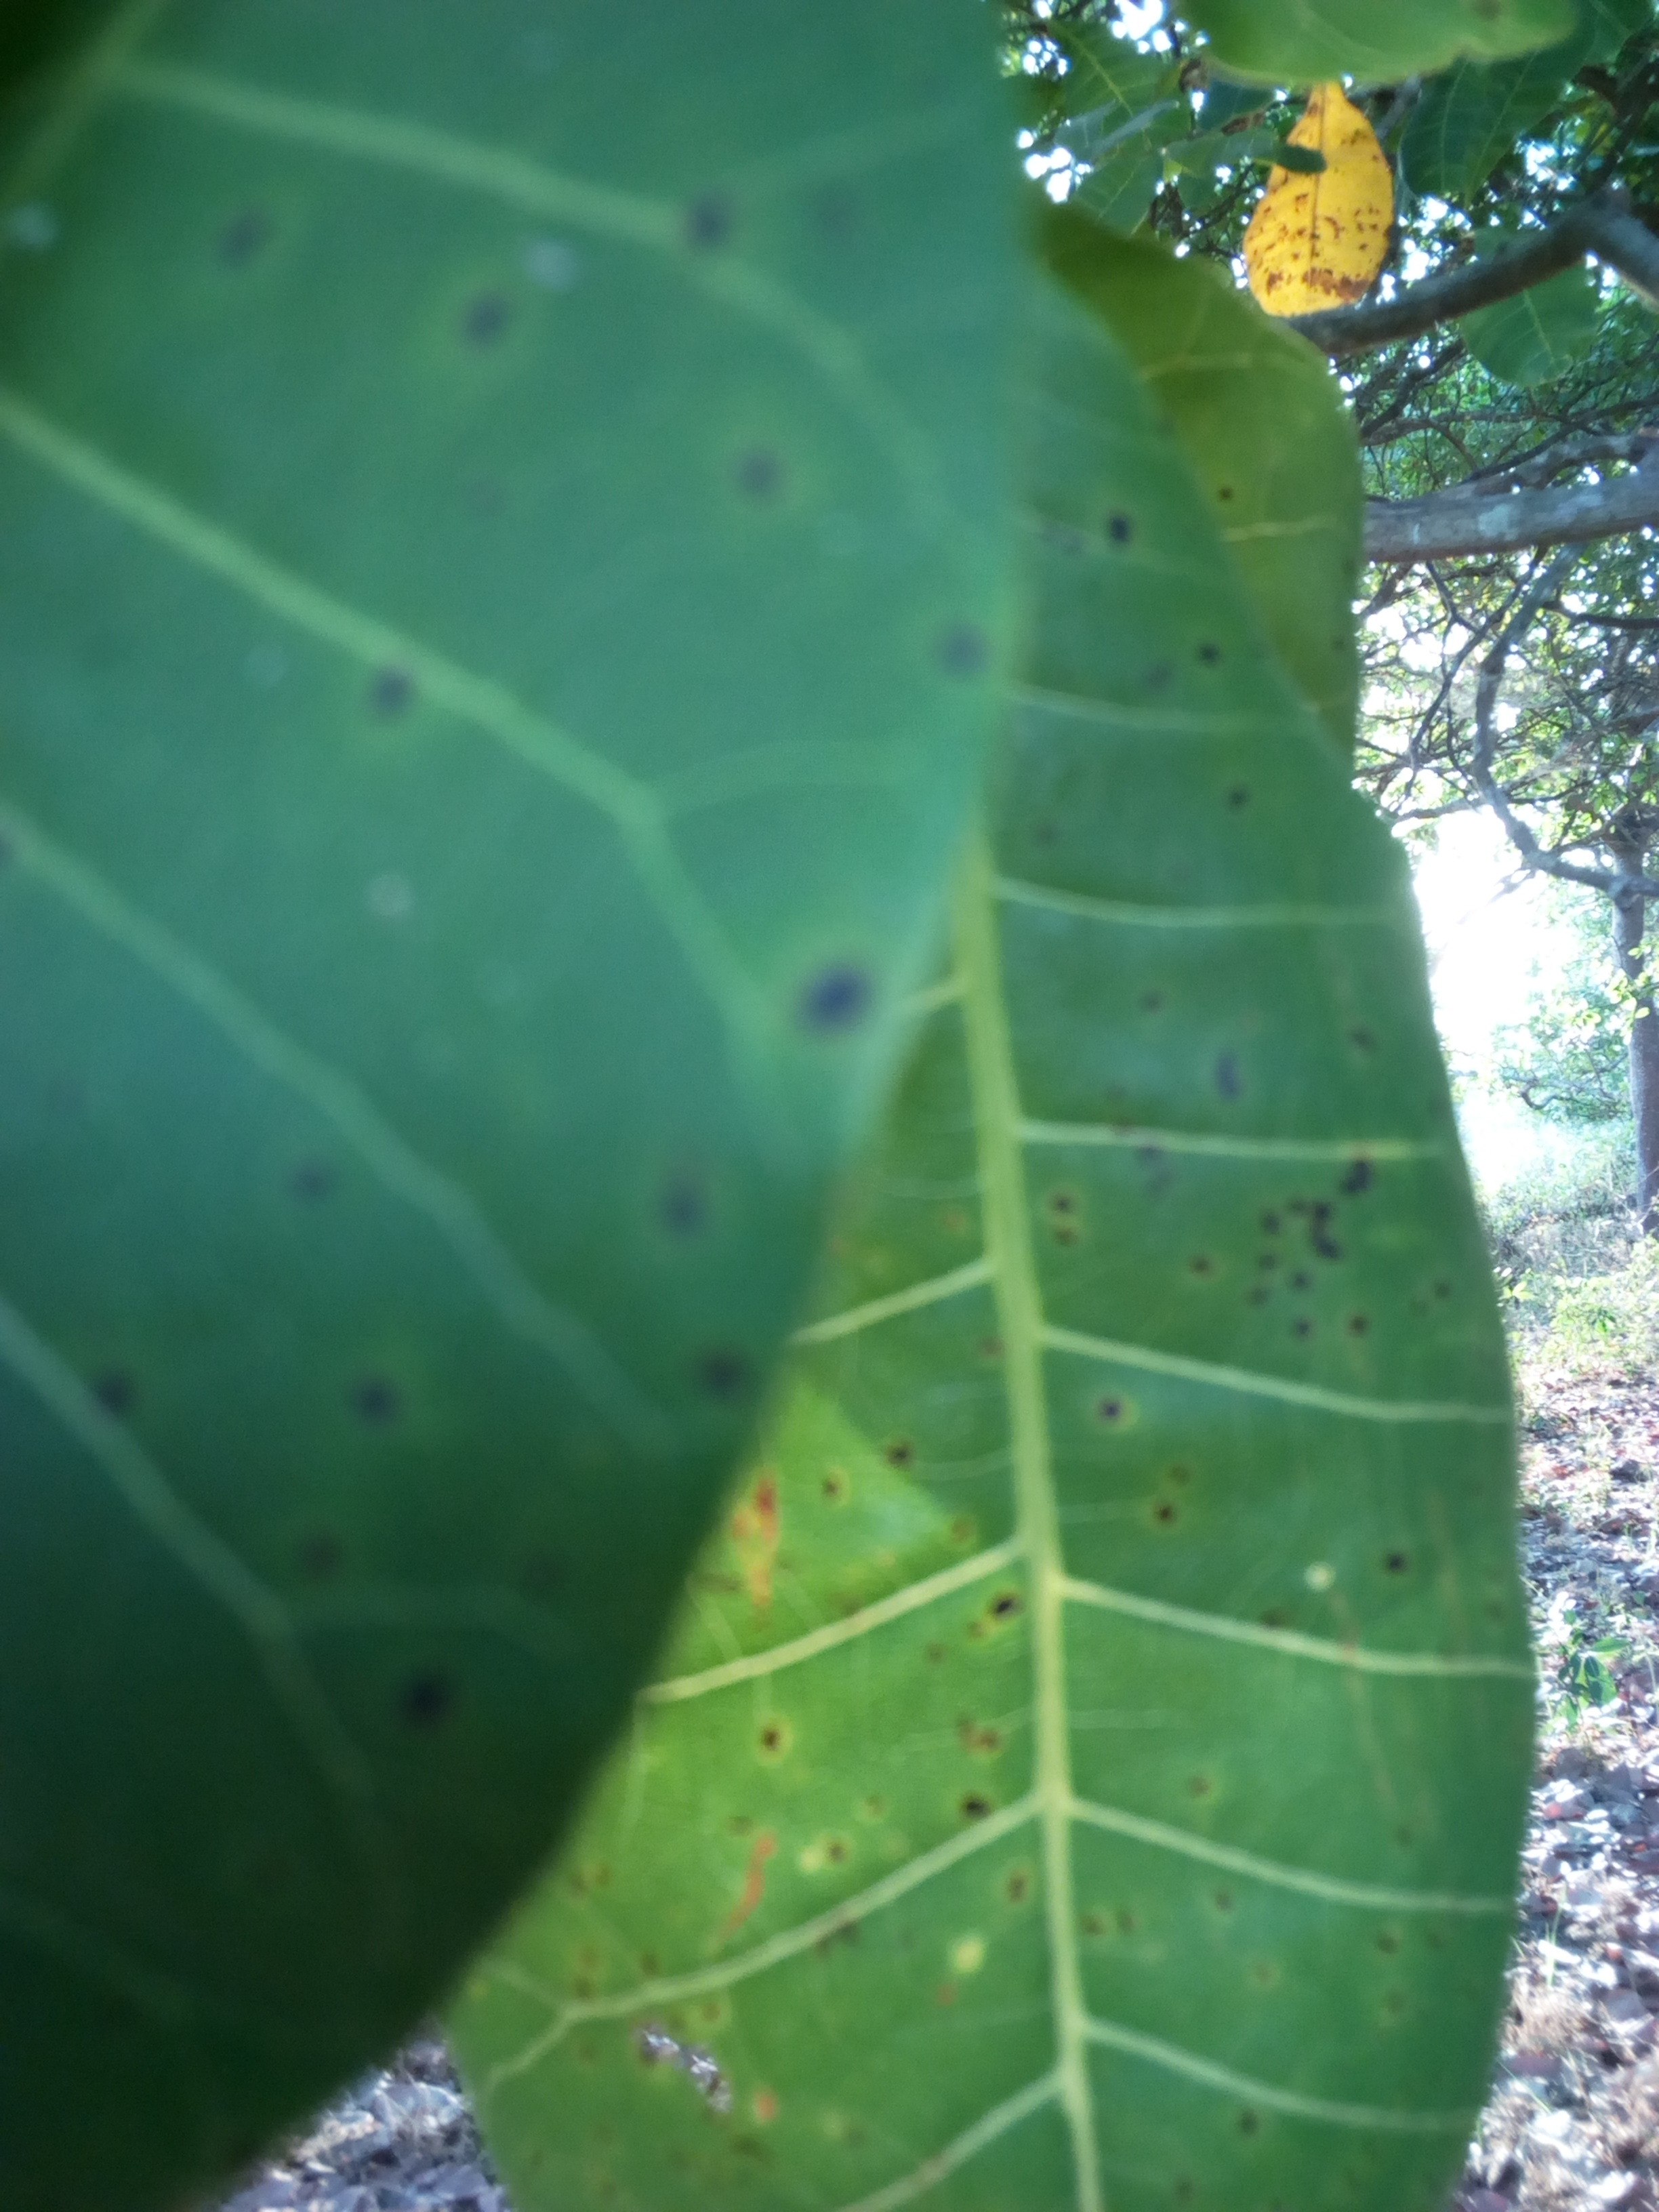Anthracnose: (432, 428, 1511, 2212)
